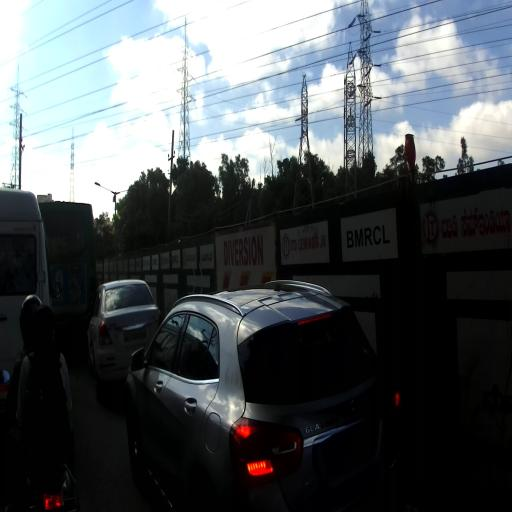street_light_0: (112, 186, 138, 203), (94, 182, 116, 202)
